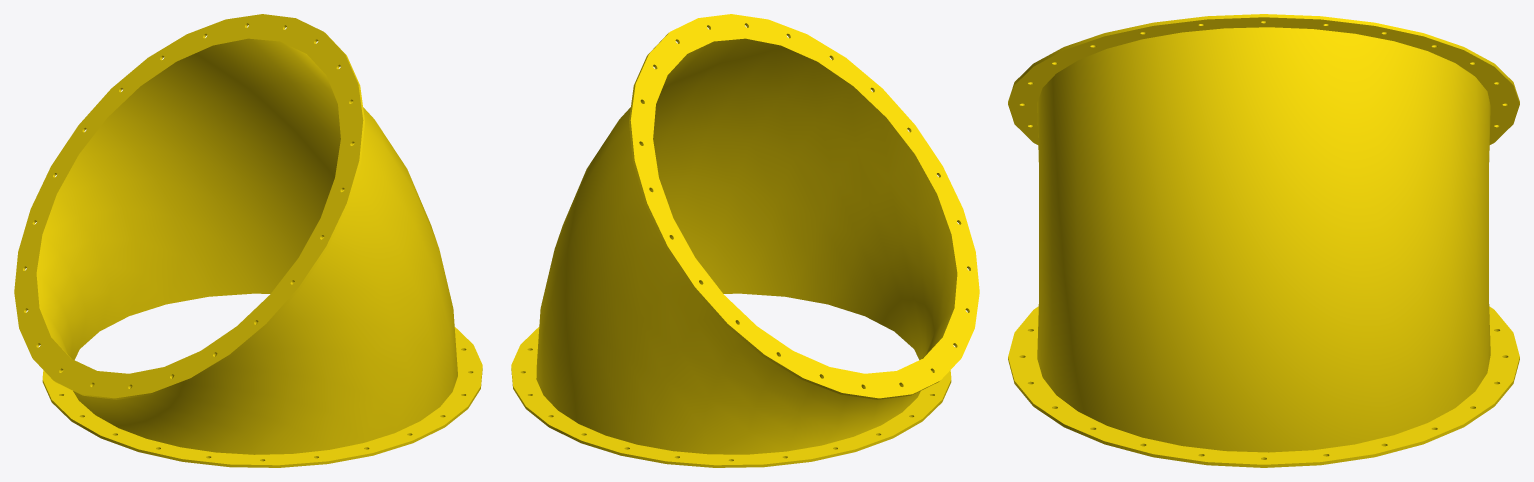
The model's file is Curved.fbx.
The picture shows the model from 3 angles, left to right: view 1: azimuth 30°, elevation 25°; view 2: azimuth 150°, elevation 25°; view 3: azimuth 270°, elevation 25°; orthographic projection. The views are drawn at different scales.
Parts seen in each view (by area): view 1: dreje-45-obj; view 2: dreje-45-obj; view 3: dreje-45-obj.
Boxes of the visible parts, x1,y1,x2,y2 form: dreje-45-obj: (14,14,482,467); dreje-45-obj: (511,14,979,467); dreje-45-obj: (1008,14,1519,467).
Size of the model in its own units: 92.13 by 72.19 by 88.
